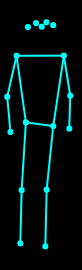mountain: (3, 15, 76, 252)
